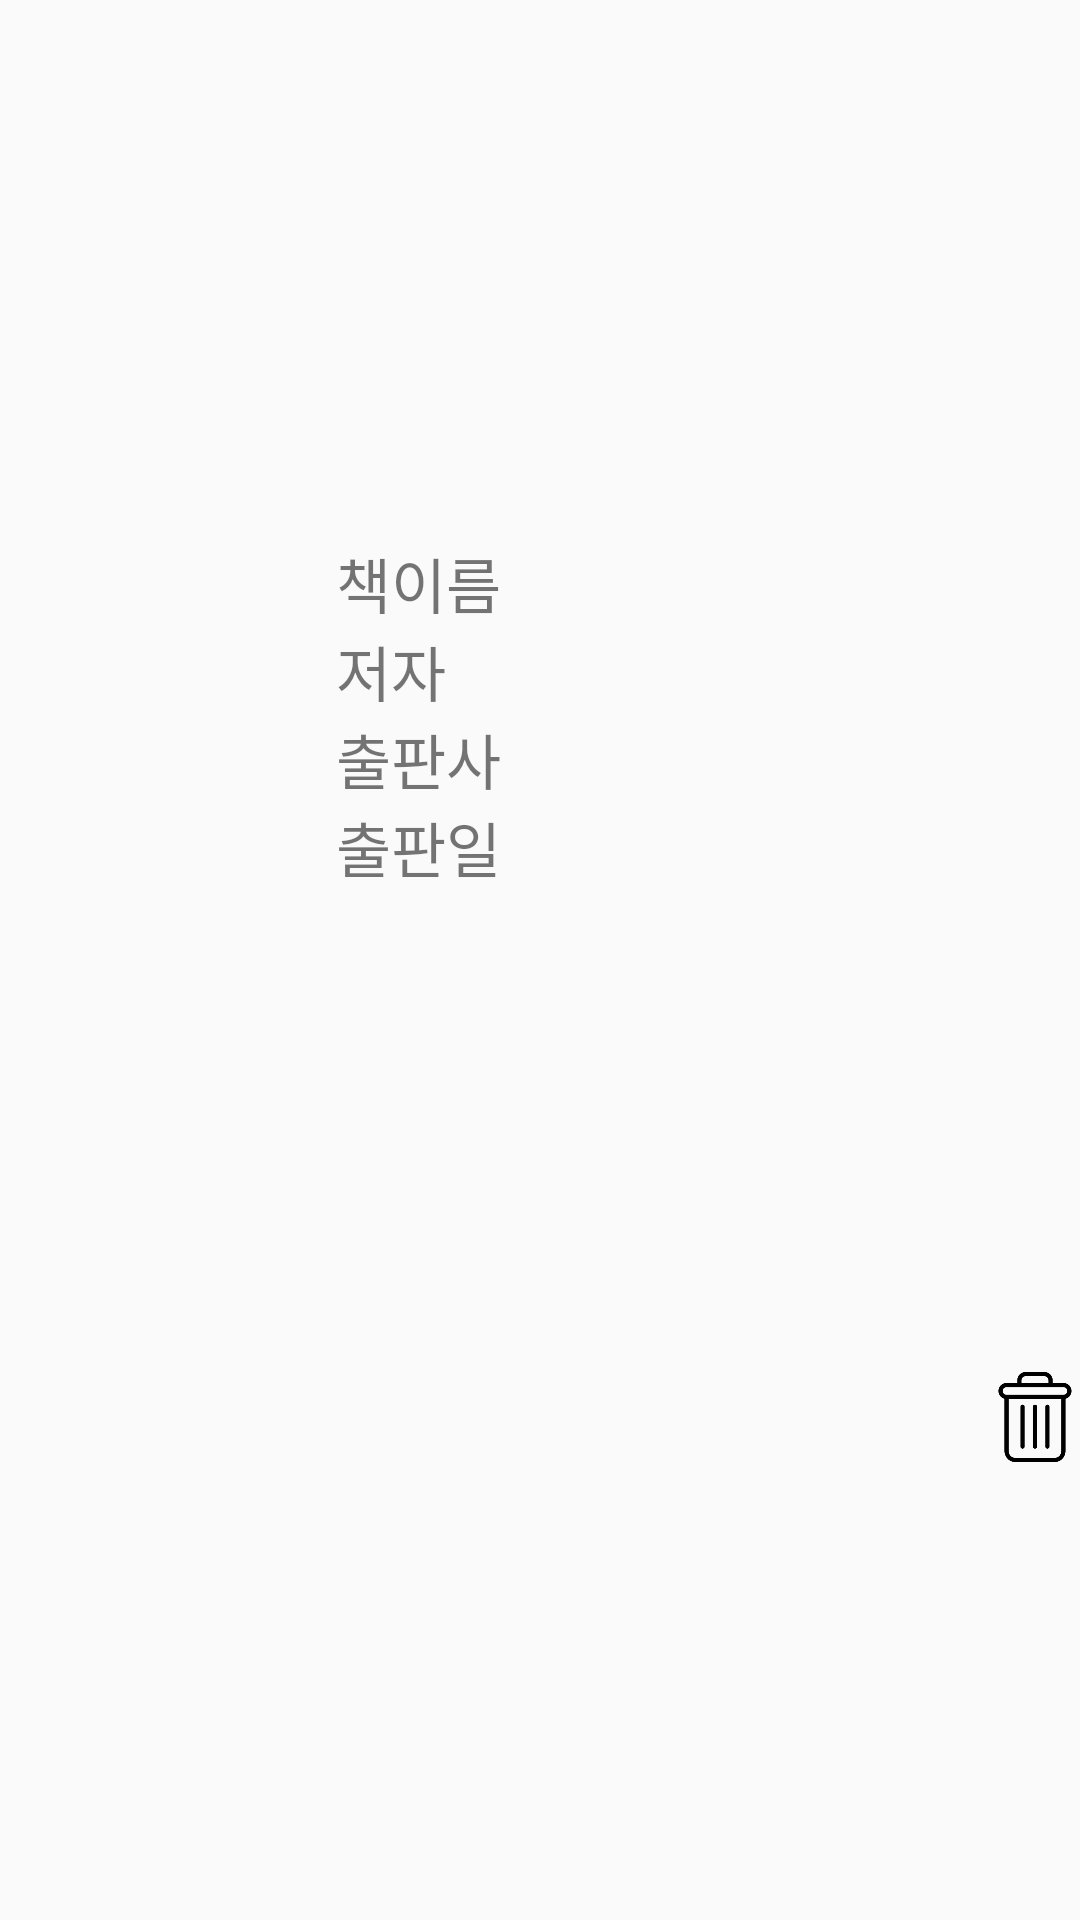

Where to tap for icons on this 1080x1920 app screen, as (x=x, y=y):
bin: (x=1035, y=1417)
